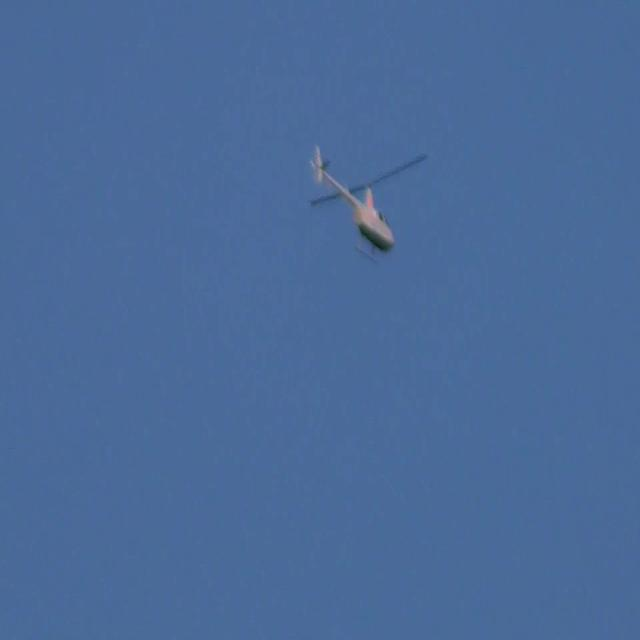CIV_HELO: (312, 146, 396, 265)
